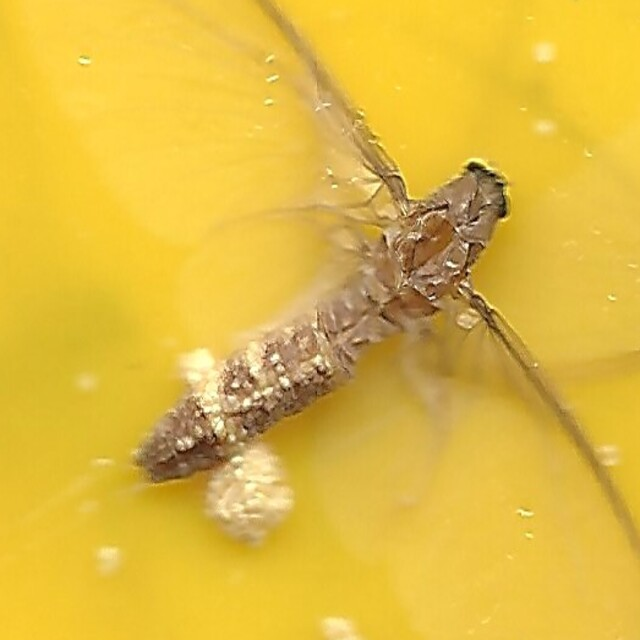Ephemeroptera: (122, 148, 518, 492)
